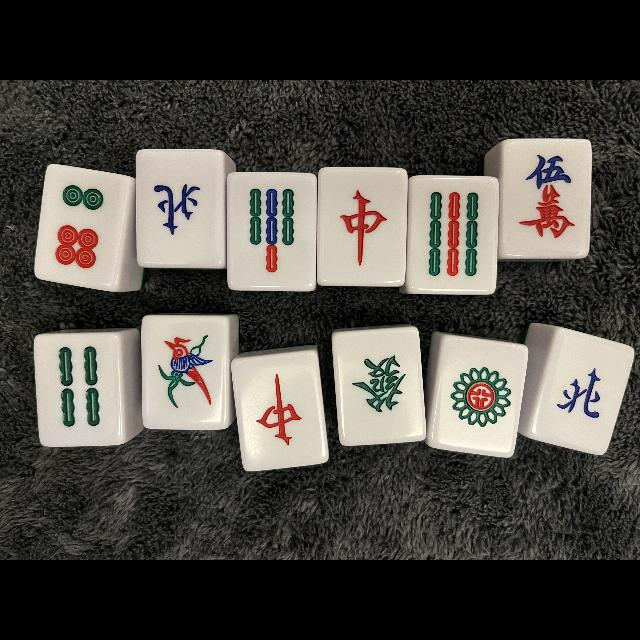b1: (142, 316, 225, 428)
b4: (39, 336, 120, 444)
b7: (228, 174, 314, 290)
b9: (413, 178, 495, 290)
c5: (504, 141, 588, 257)
d1: (438, 340, 518, 450)
d6: (40, 171, 124, 285)
dg: (339, 331, 421, 442)
dr: (238, 354, 322, 468), (321, 170, 404, 284)
wn: (137, 150, 223, 264), (544, 336, 624, 444)
